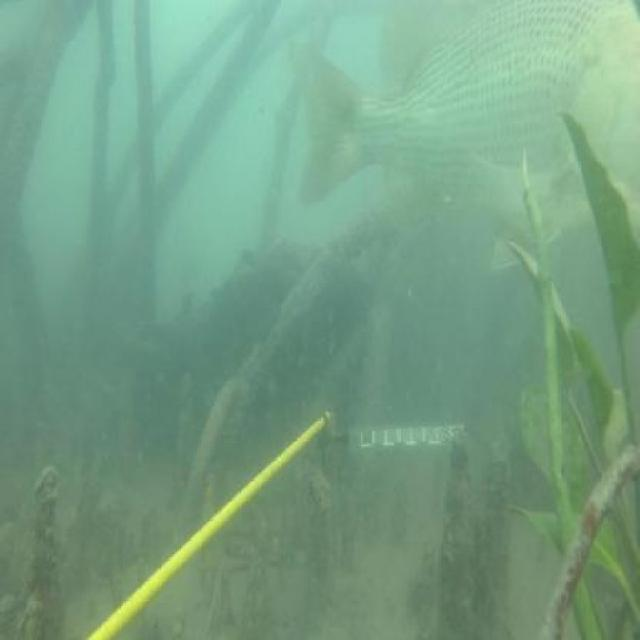lutjanus_johnii: (284, 3, 640, 274)
